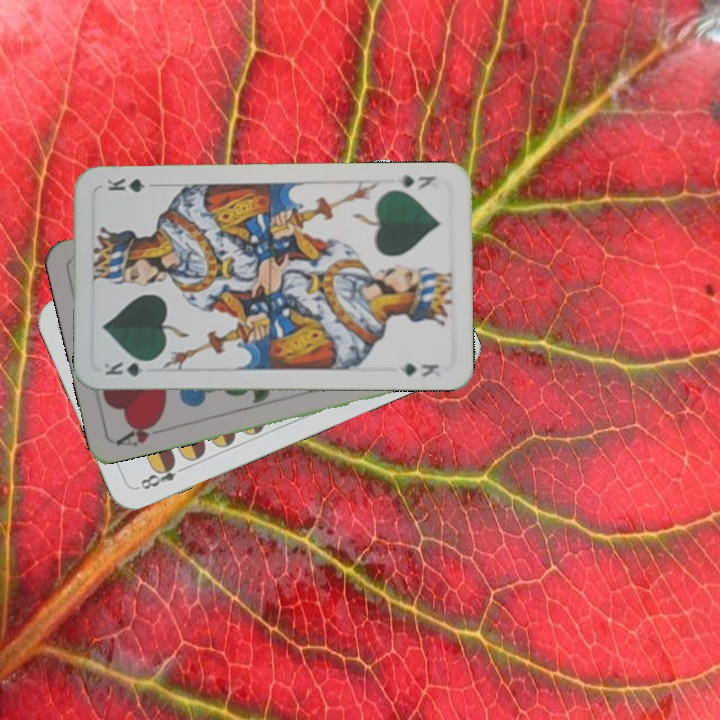E8: (136, 457, 190, 492)
GK: (100, 356, 157, 380), (393, 171, 438, 193)
HA: (112, 415, 165, 449)
